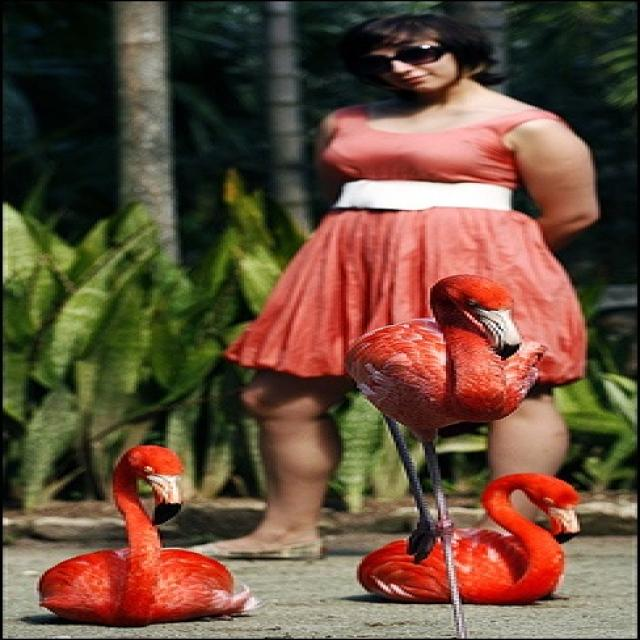bird: (336, 271, 532, 639), (23, 442, 255, 624), (351, 471, 585, 607)
